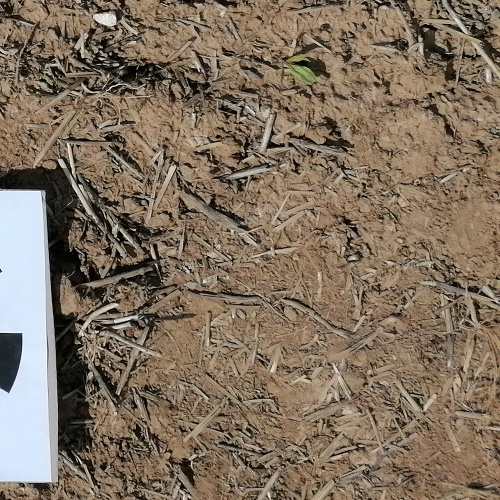beet: (276, 48, 317, 86)
